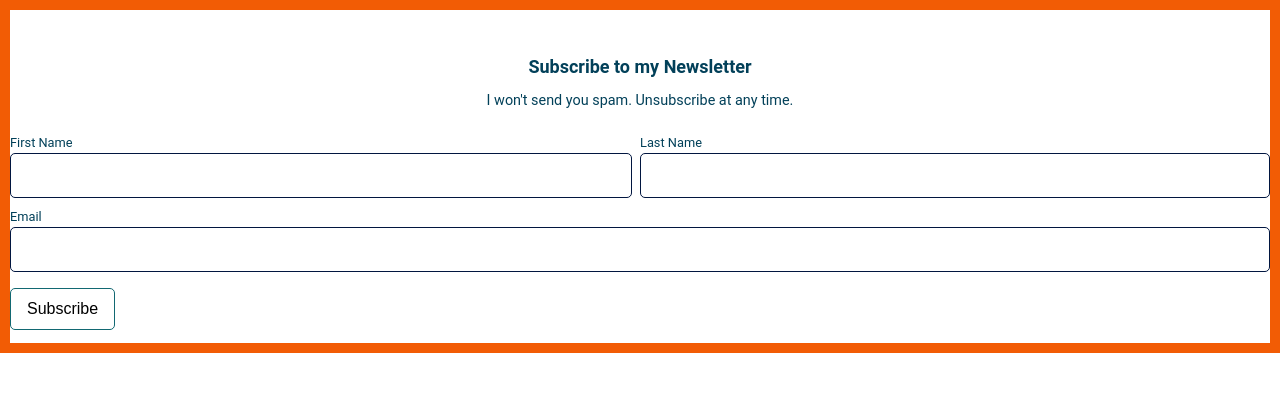
Test case: Newsletter › should display error message if api fails
This screenshot has width=1280, height=418.
Type "bob" into the field with test id "firstName" at (321, 176), box [10,153,632,198]
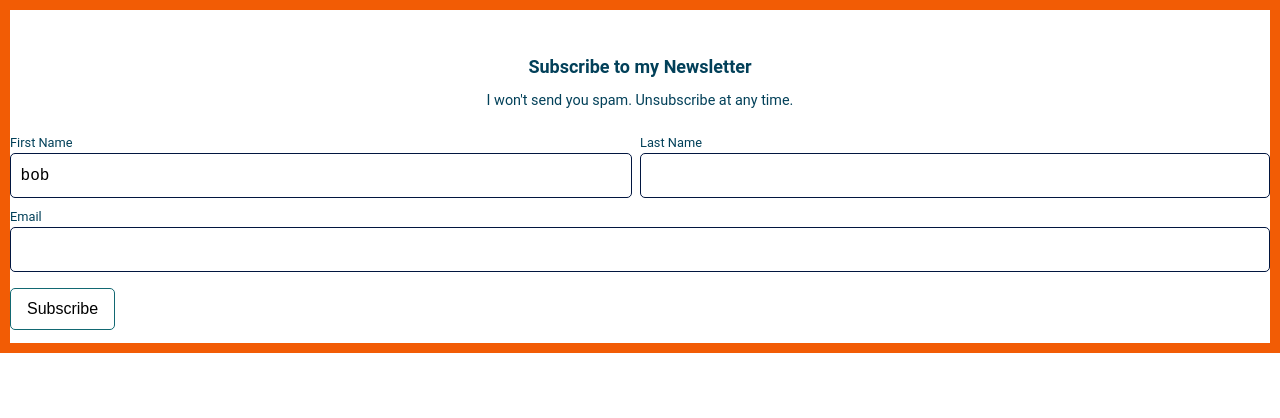
Type "john" into the field with test id "lastName" at (955, 176), box [640,153,1270,198]
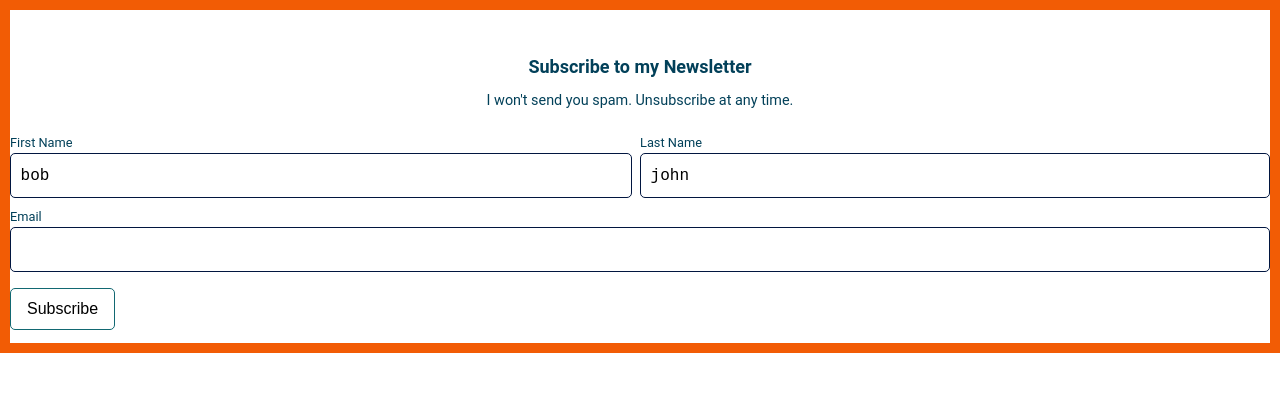
Type "bob@gmail.com" into the field with test id "email" at (640, 250), box [10,227,1270,272]
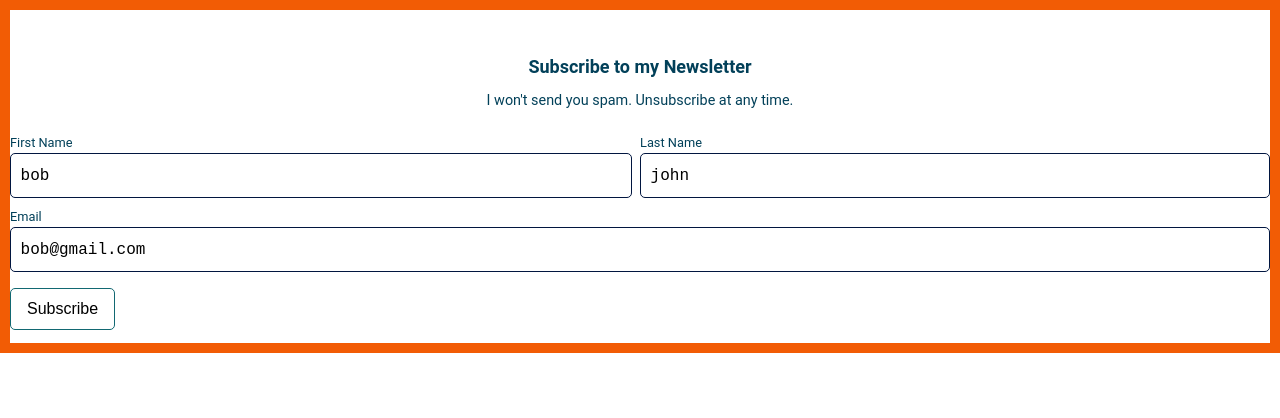
Click the button with test id "submit" at (63, 309), box [10,288,115,330]
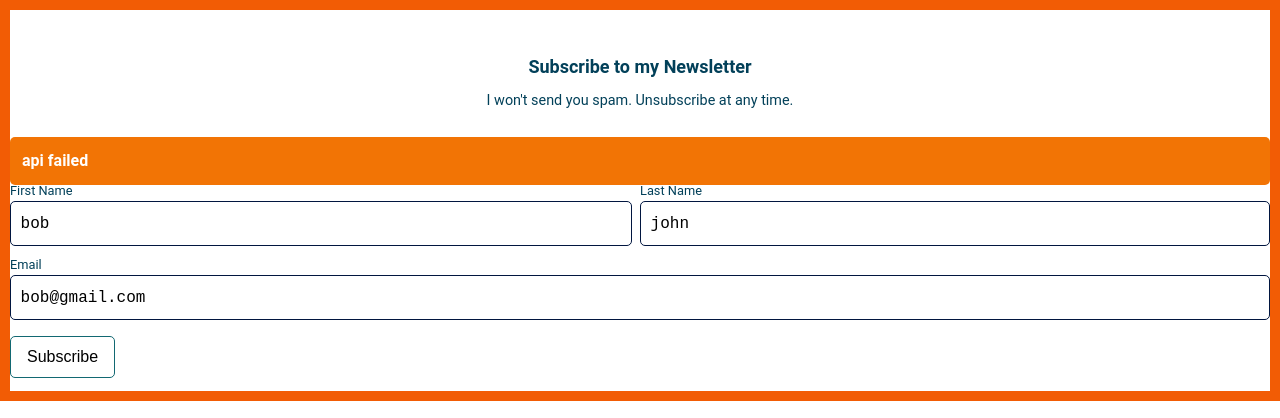
Expected: the button with test id "submit" is shown, [10,336,115,378]
Now the text "api failed" is shown, box [10,137,1270,185]
